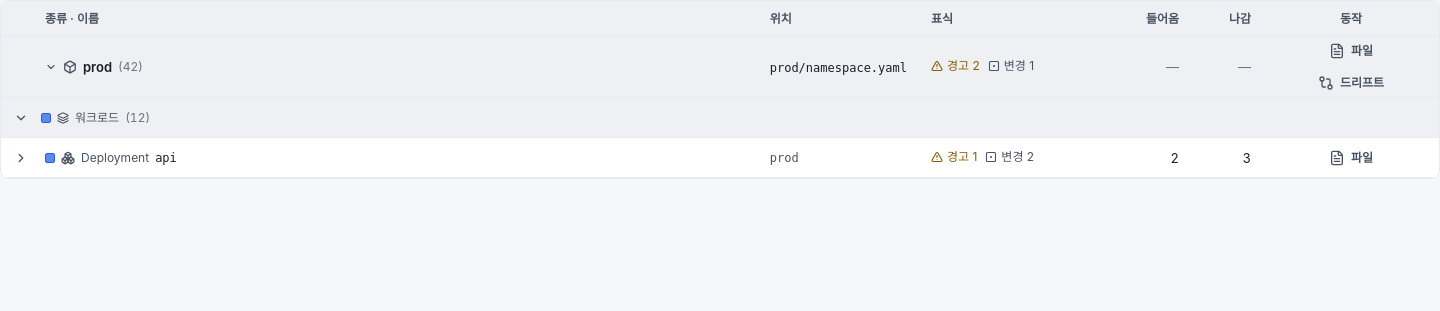
Test case: RelationTable (16.8 / snapshot-3d.md 8절) › 행을 누르면 선택되고 관계 목록이 펼쳐진다
The width and height of the screenshot is (1440, 311).
Click the text "Deployment" at [115, 158], box x1=81 y1=150 x2=149 y2=166
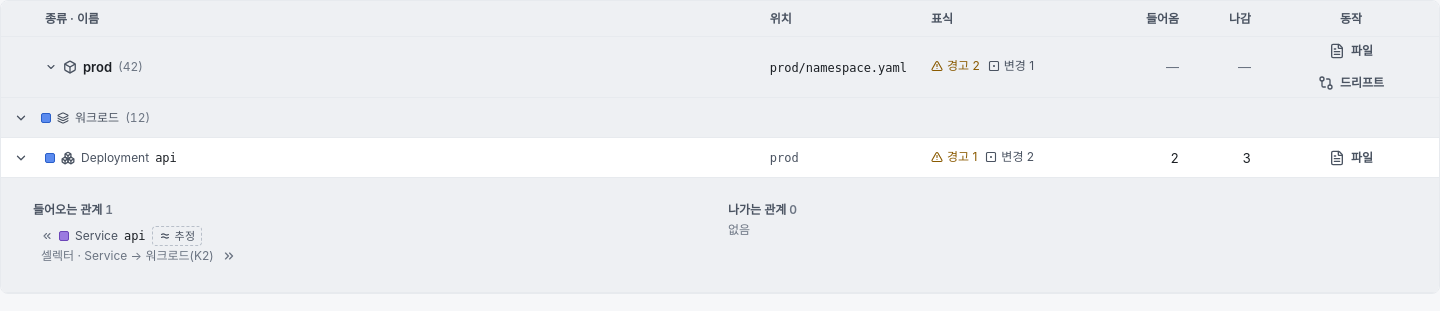
Check: the heading "들어오는 관계 1" is shown, box x1=33 y1=202 x2=113 y2=217
